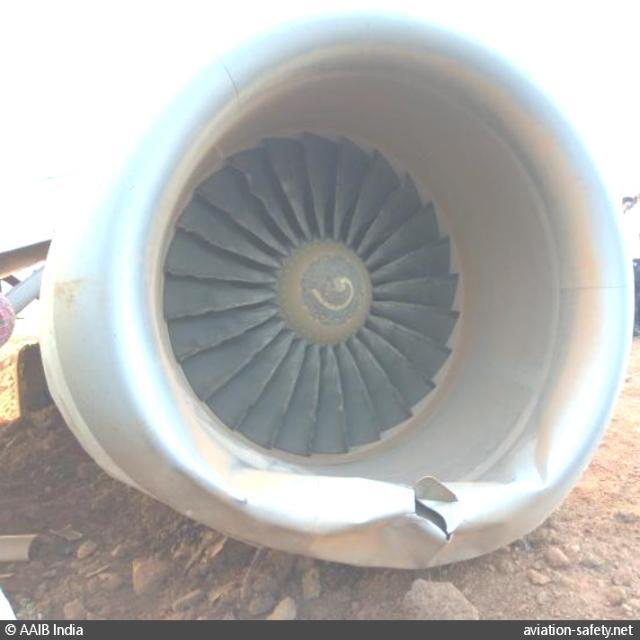crack: (412, 487, 453, 549)
dent: (235, 465, 406, 537), (512, 432, 558, 493)
